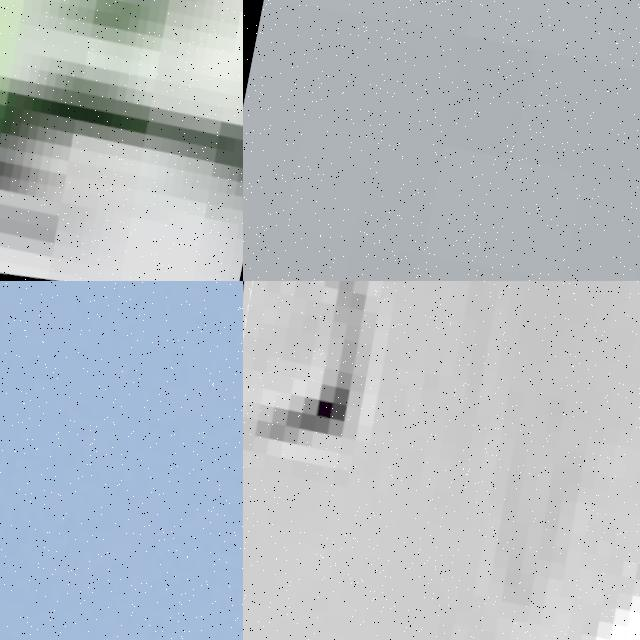0: (0, 0, 243, 281)
drone: (243, 281, 640, 640), (0, 281, 243, 640)
